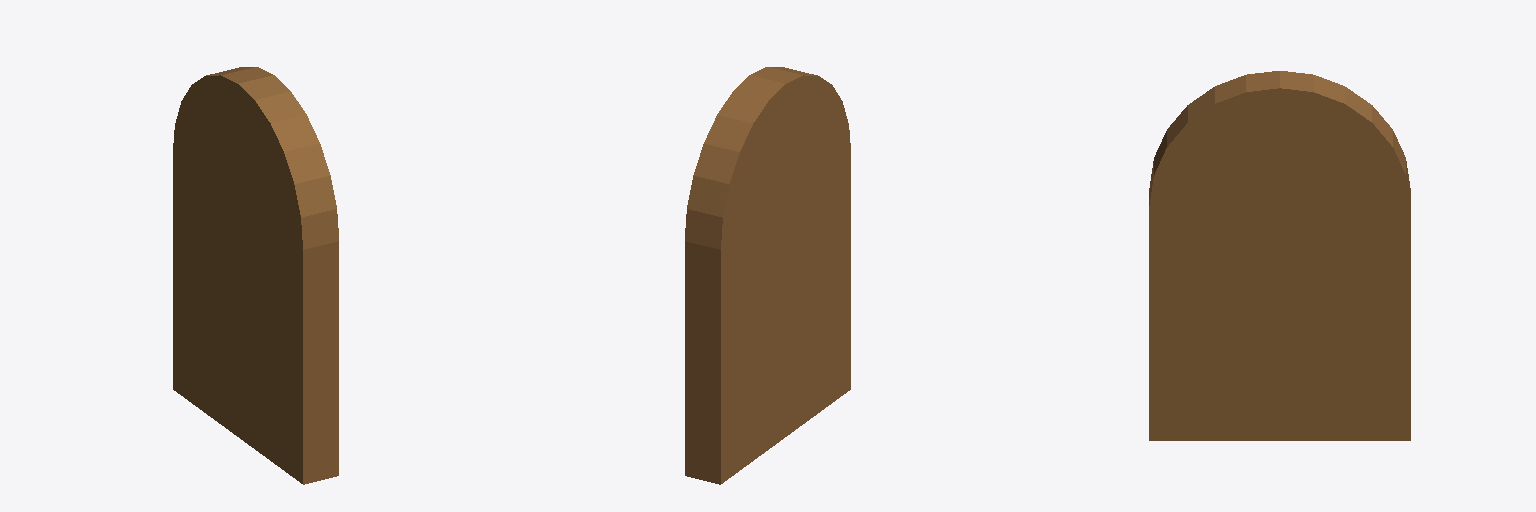
Rendered from modularBuildings_098.obj.
3 renders of one model, left to right at view 1: azimuth 30°, elevation 25°; view 2: azimuth 150°, elevation 25°; view 3: azimuth 270°, elevation 25°, orthographic.
Parts seen in each view (by area): view 1: Mesh1 Group1 Model; view 2: Mesh1 Group1 Model; view 3: Mesh1 Group1 Model.
Boxes of the visible parts, box(x1,y1,x2,y2) form: Mesh1 Group1 Model: box(173, 67, 338, 484); Mesh1 Group1 Model: box(685, 67, 850, 484); Mesh1 Group1 Model: box(1149, 71, 1410, 440).
Bounding box in the file's own units: 0.05 × 0.4663 × 0.3125.